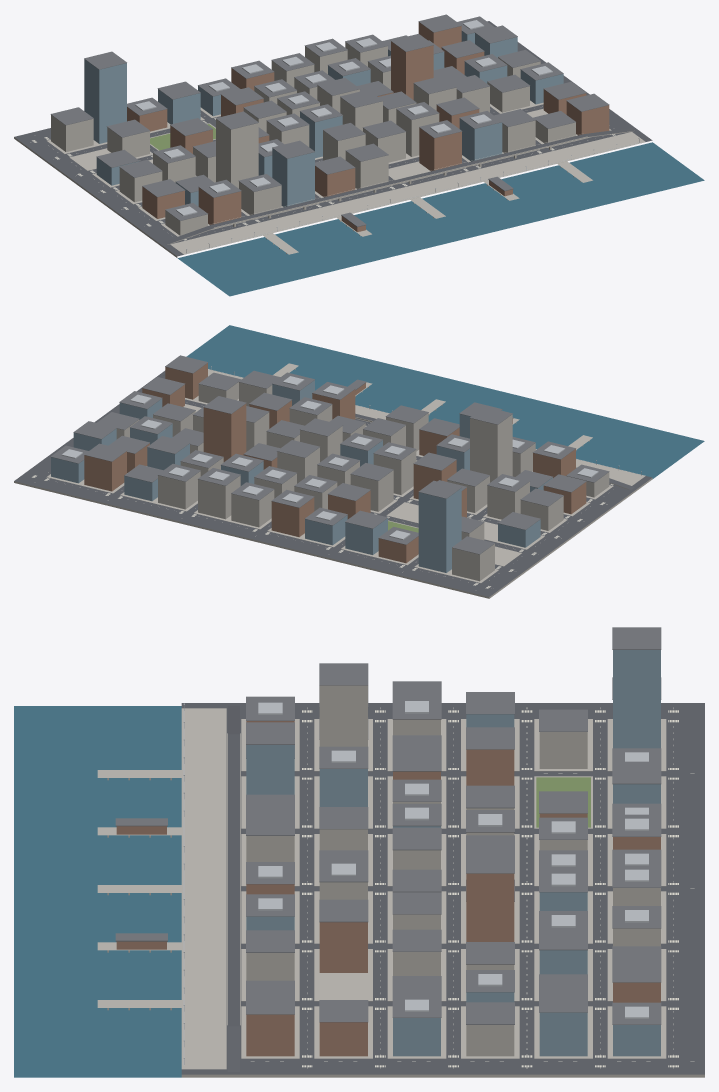
The model's file is harbor-city.glb.
3 renders of one model, top to bottom at view 1: azimuth 30°, elevation 25°; view 2: azimuth 150°, elevation 25°; view 3: azimuth 270°, elevation 25°, orthographic. The views are drawn at different scales.
Visible parts, largest first — view 1: city; view 2: city; view 3: city.
Boxes of the visible parts, left/top/right/bottom form: city: left=14, top=14, right=704, bottom=296; city: left=14, top=325, right=704, bottom=598; city: left=14, top=627, right=704, bottom=1077.
Bounding box in the file's own units: 840 × 129 × 660.
